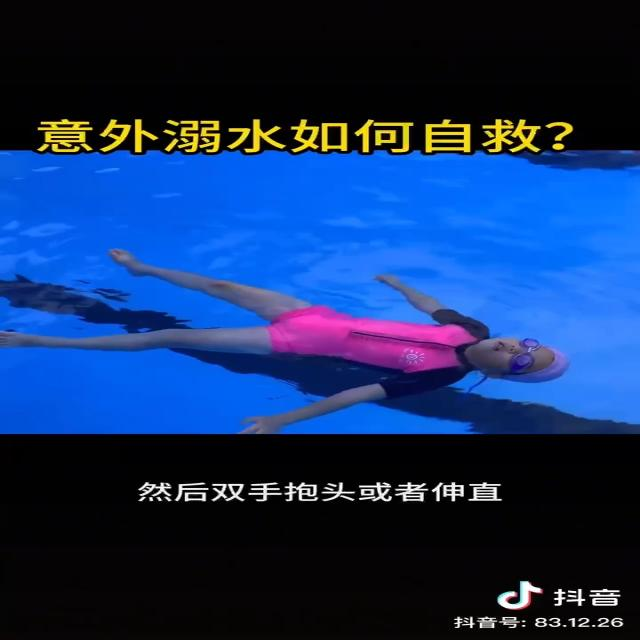Drowning: (6, 243, 572, 432)
